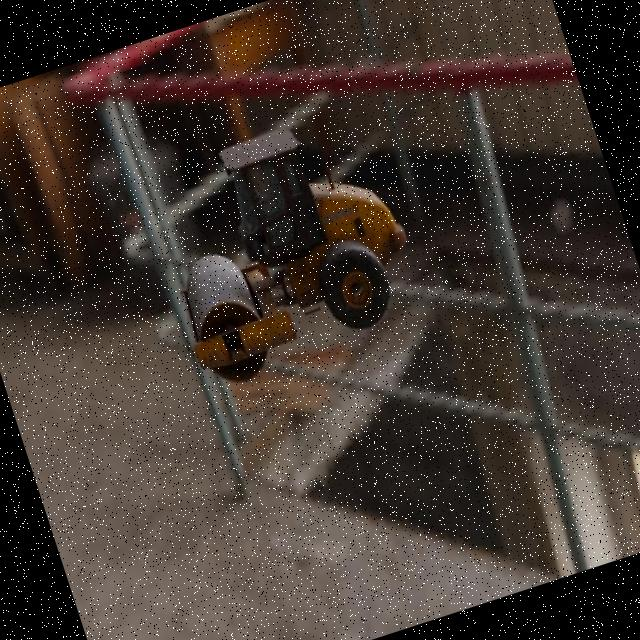Roller: (136, 101, 434, 394)
